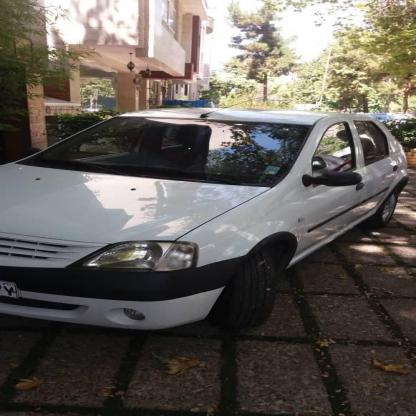Car: (0, 87, 415, 344)
